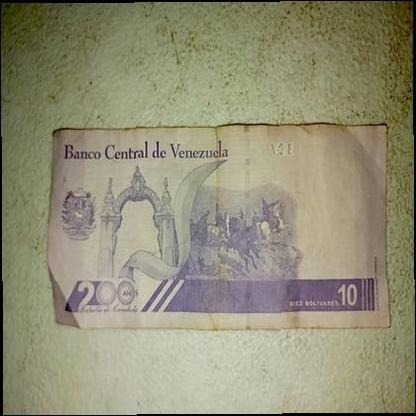vef_back: (52, 122, 390, 328)
